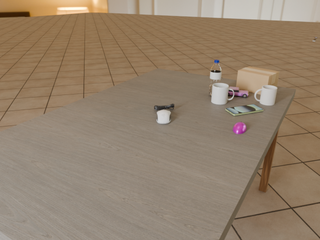bottle: (209, 60, 221, 95)
box: (236, 66, 279, 95)
cup: (211, 83, 234, 105), (255, 85, 277, 105)
mouse: (157, 109, 171, 124), (233, 122, 246, 134)
phone: (226, 104, 263, 115)
toy_car: (228, 87, 248, 98)
